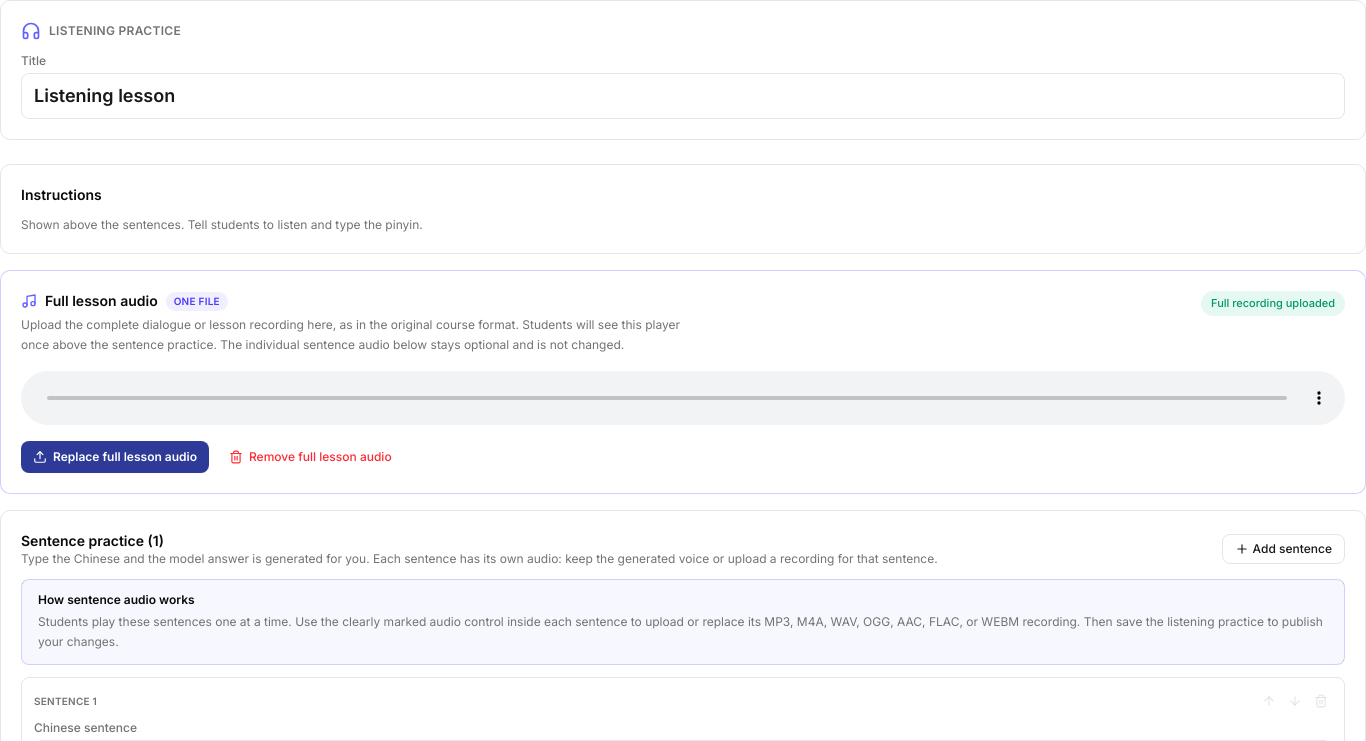
Scenario: listening-practice sentence audio editor › removes only the full recording and preserves sentence content
Click the button "Remove full lesson audio": [310, 457] box left=217, top=441, right=404, bottom=473
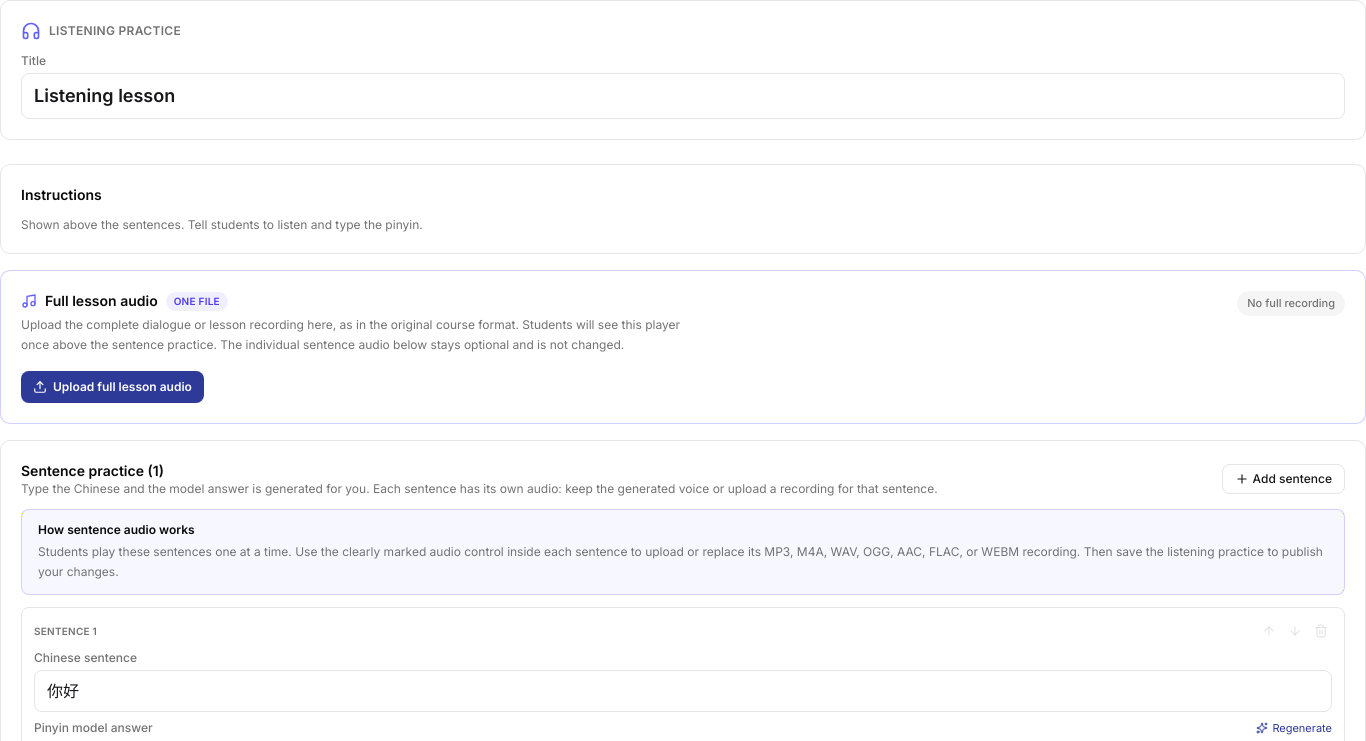
Now the text "No full recording" is shown, box left=1237, top=291, right=1345, bottom=316
